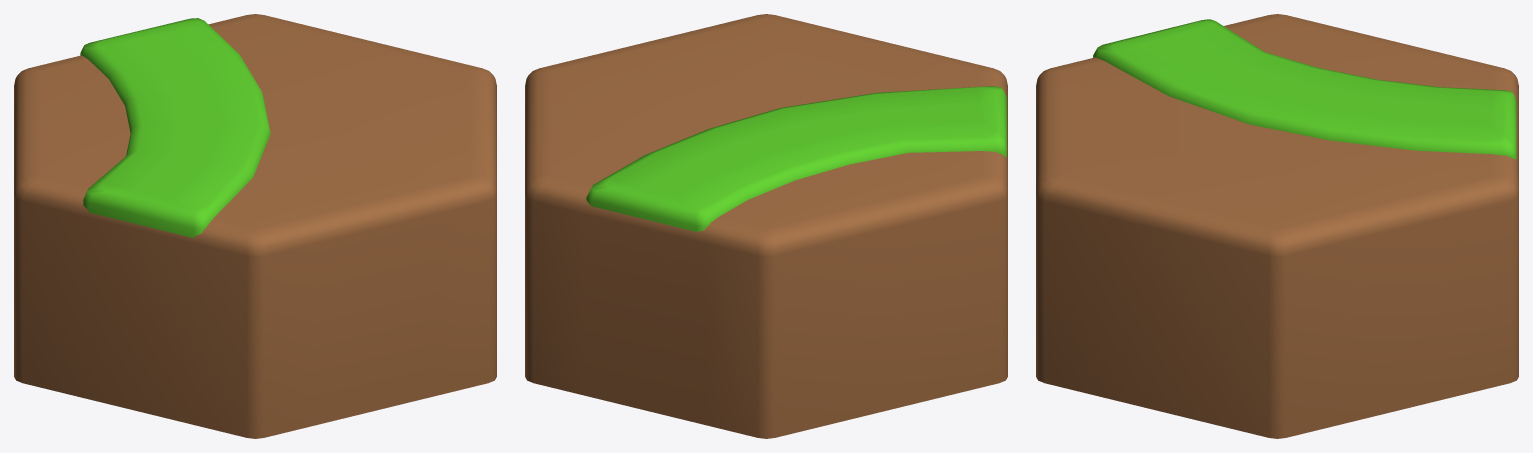
The model's file is Tile_Sand_Path_Turn_R.fbx.
The picture shows the model from 3 angles, left to right: view 1: azimuth 30°, elevation 25°; view 2: azimuth 150°, elevation 25°; view 3: azimuth 270°, elevation 25°; orthographic projection.
Visible parts, largest first — view 1: Tile_Sand_Path_Turn_R; view 2: Tile_Sand_Path_Turn_R; view 3: Tile_Sand_Path_Turn_R.
Part boxes in pixels (box(x1,y1,x2,y2)): Tile_Sand_Path_Turn_R: box(14, 14, 496, 438); Tile_Sand_Path_Turn_R: box(525, 14, 1007, 438); Tile_Sand_Path_Turn_R: box(1036, 14, 1518, 438).
Bounding box in the file's own units: 9302 × 3850 × 8129.
